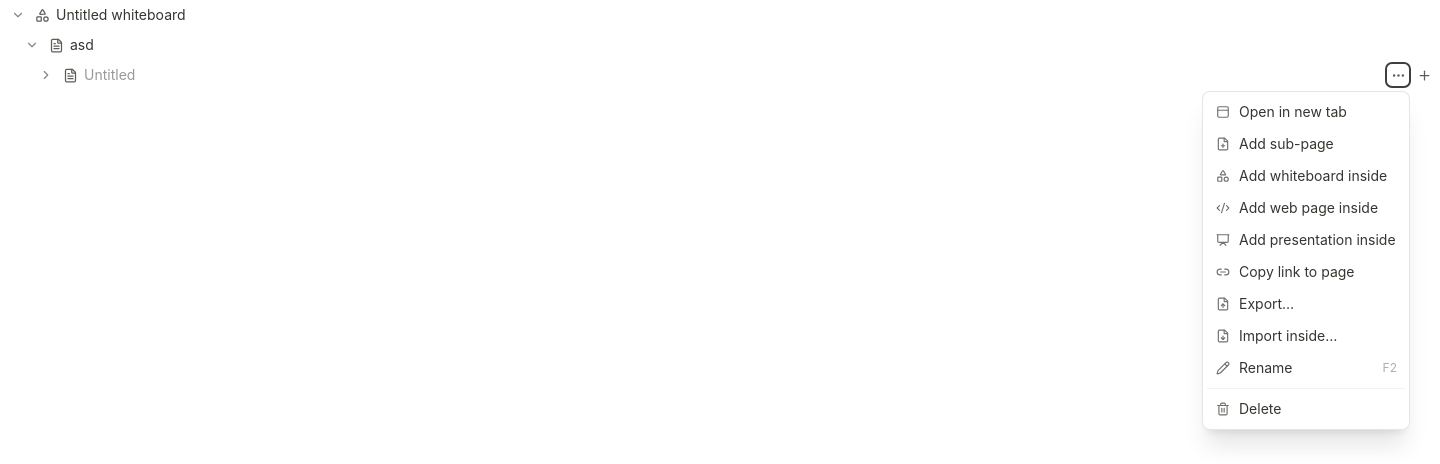
Test: sidebar page menu › opens for pages nested inside a whiteboard (not clipped by the folded group)
Earlier steps of the test are not shown.
Expected: the button "Add whiteboard inside" is shown, [1207,160,1405,192]
Expected: the button "Copy link to page" is shown, [1207,256,1405,288]
Click the button "Add sub-page" at (1306, 144), box [1207,128,1405,160]
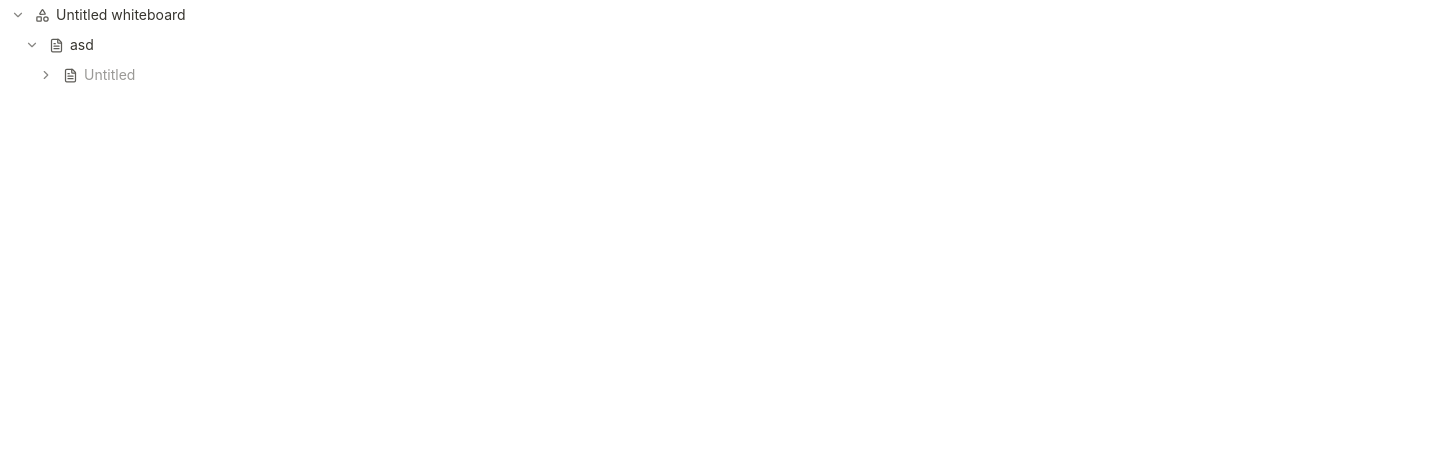
Result: the menu is gone
